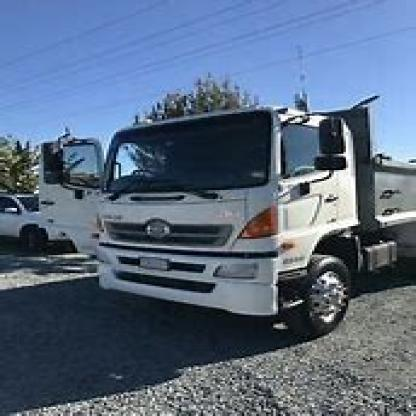dump_truck: (32, 90, 414, 346)
